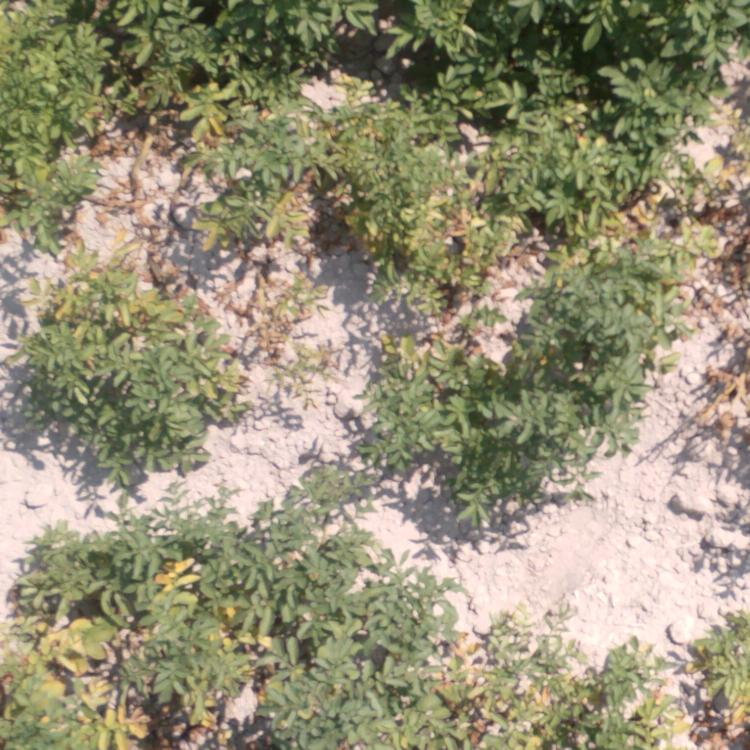healthy: (414, 1, 721, 102), (499, 273, 644, 458), (16, 1, 377, 69), (210, 506, 398, 594)
stressed: (3, 533, 191, 740), (43, 240, 221, 453), (506, 110, 739, 260), (389, 636, 682, 745), (340, 120, 482, 305), (205, 612, 376, 737), (377, 308, 477, 478), (187, 106, 312, 238), (1, 98, 133, 179), (690, 621, 750, 734), (251, 269, 297, 357)
